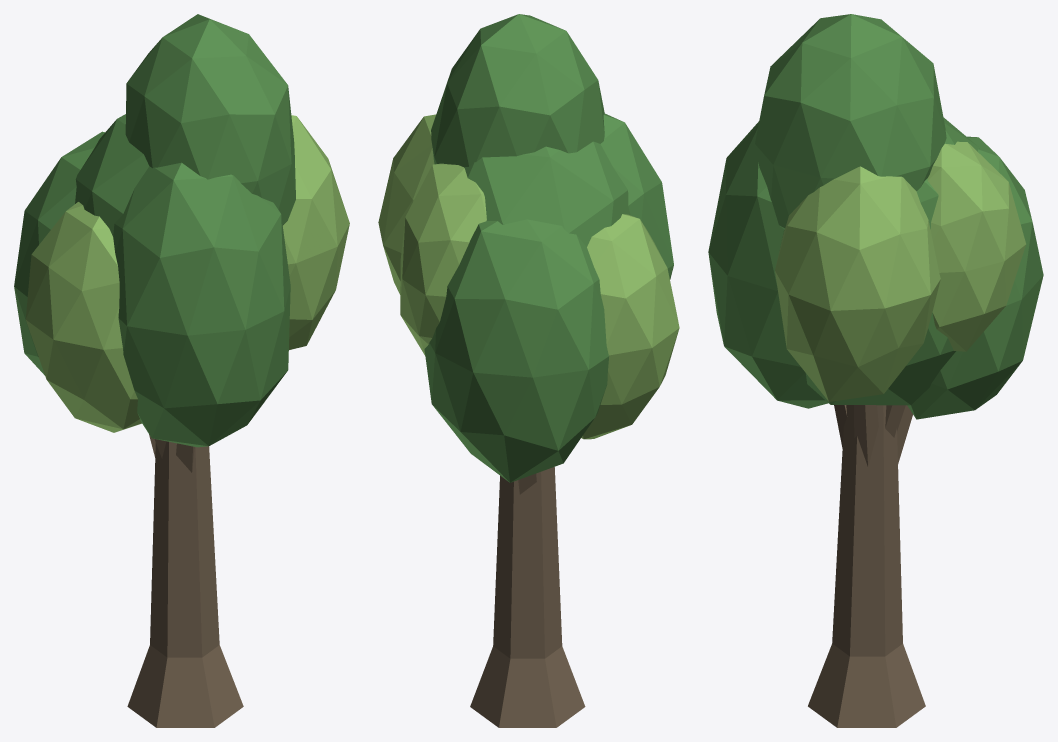
The model's file is deciduous-tree.glb.
3 renders of one model, left to right at view 1: azimuth 30°, elevation 25°; view 2: azimuth 150°, elevation 25°; view 3: azimuth 270°, elevation 25°, orthographic. The views are drawn at different scales.
Visible parts, largest first — view 1: deciduous-tree; view 2: deciduous-tree; view 3: deciduous-tree.
Boxes of the visible parts, box(x1,y1,x2,y2) form: deciduous-tree: box(14, 14, 349, 727); deciduous-tree: box(378, 14, 679, 727); deciduous-tree: box(708, 14, 1043, 727).
Bounding box in the file's own units: 1.61 × 3.66 × 1.59.
